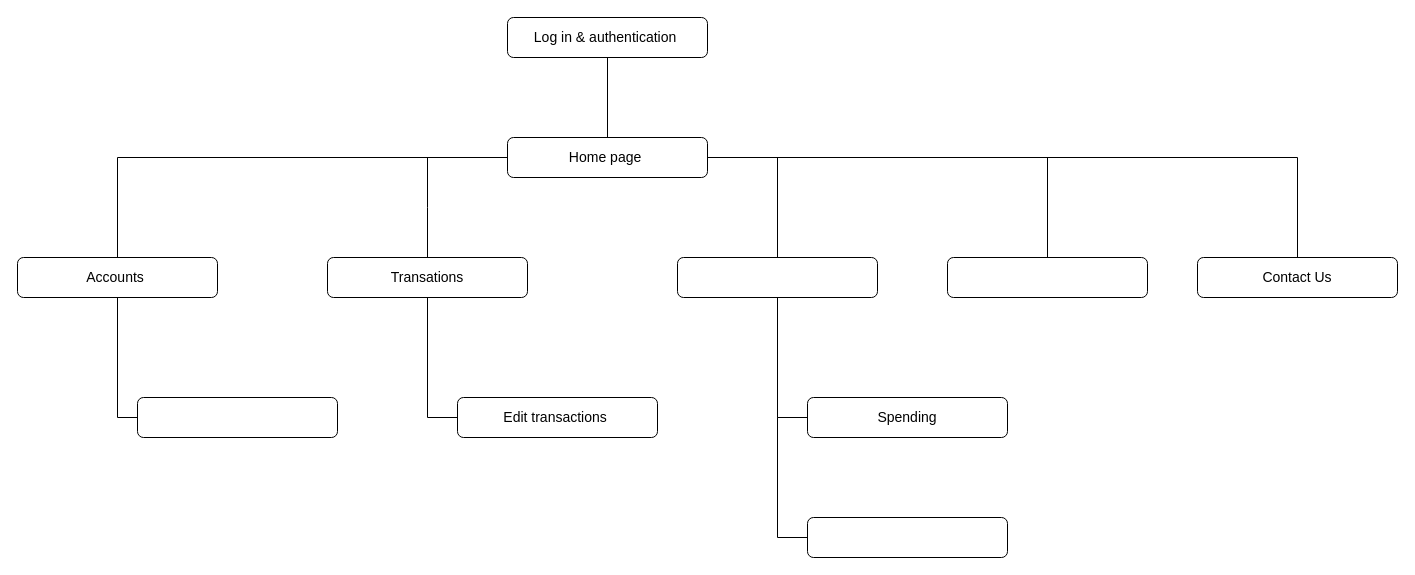
This 1415x575 diagram has some shape labels left out. Here are the shapes that lost their labels. From the top down, the centre of each, then its label:
At point 777,277: "Statistics".
At point 1047,277: "FAQs".
At point 237,417: "Add banks".
At point 907,537: "Balance".
